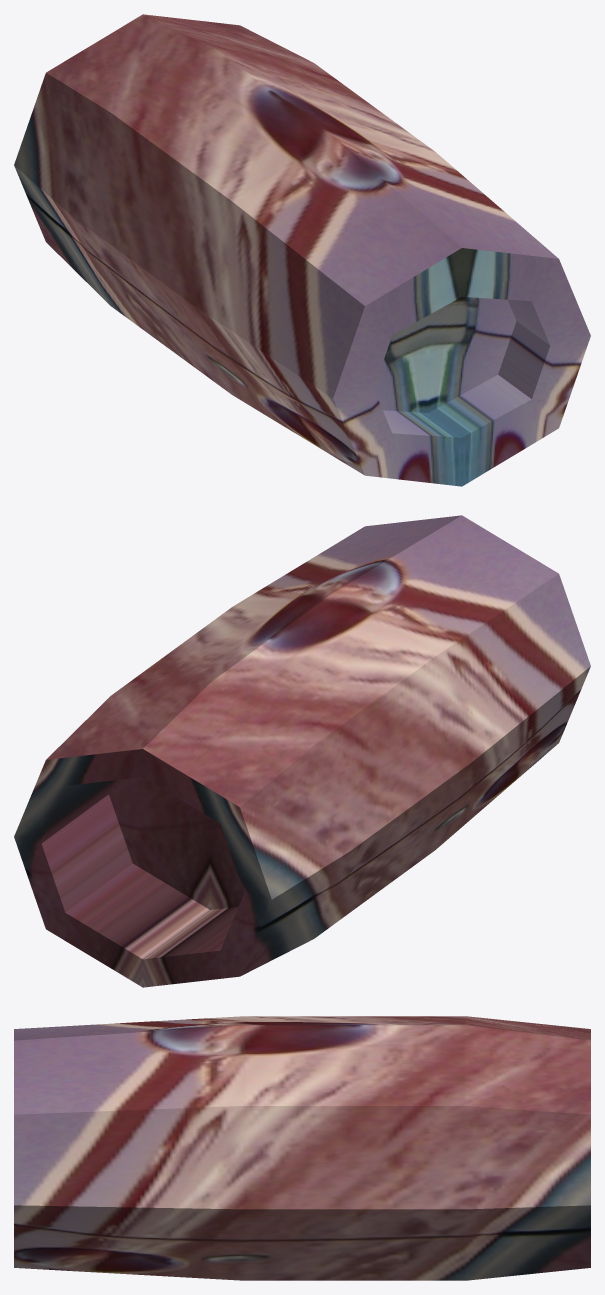
3 renders of one model, top to bottom at view 1: azimuth 30°, elevation 25°; view 2: azimuth 150°, elevation 25°; view 3: azimuth 270°, elevation 25°, orthographic. The views are drawn at different scales.
Parts seen in each view (by area): view 1: Engine-1_Cube.004; view 2: Engine-1_Cube.004; view 3: Engine-1_Cube.004.
Part boxes in pixels (left/top/right/bottom): Engine-1_Cube.004: left=14, top=14, right=590, bottom=486; Engine-1_Cube.004: left=14, top=515, right=590, bottom=987; Engine-1_Cube.004: left=14, top=1016, right=590, bottom=1280.
Size of the model in its own units: 4.75 by 4.48 by 9.5.
